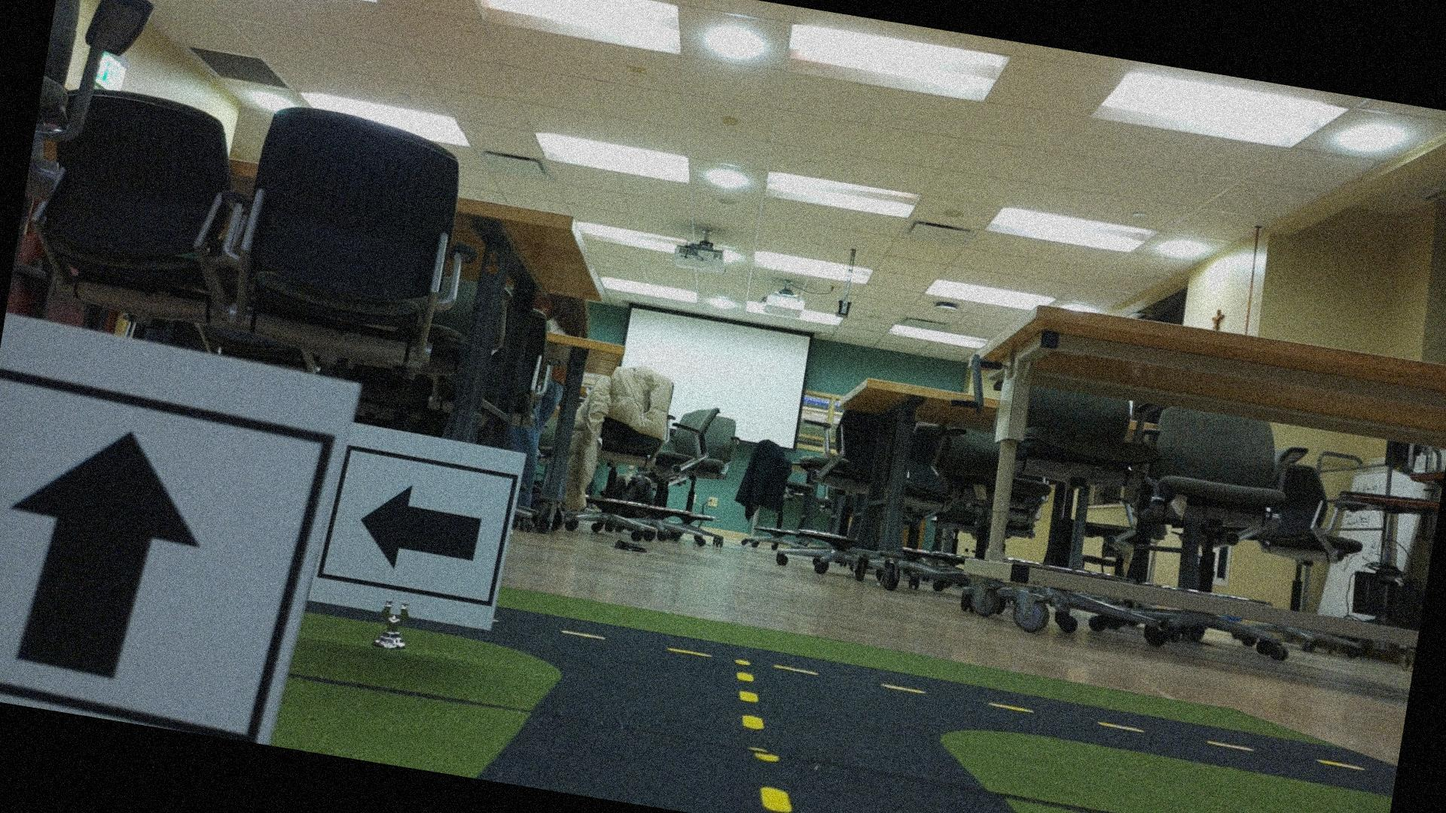gostraight: (0, 324, 334, 746)
turnleft: (321, 429, 518, 633)
yellowline: (717, 671, 808, 812)
